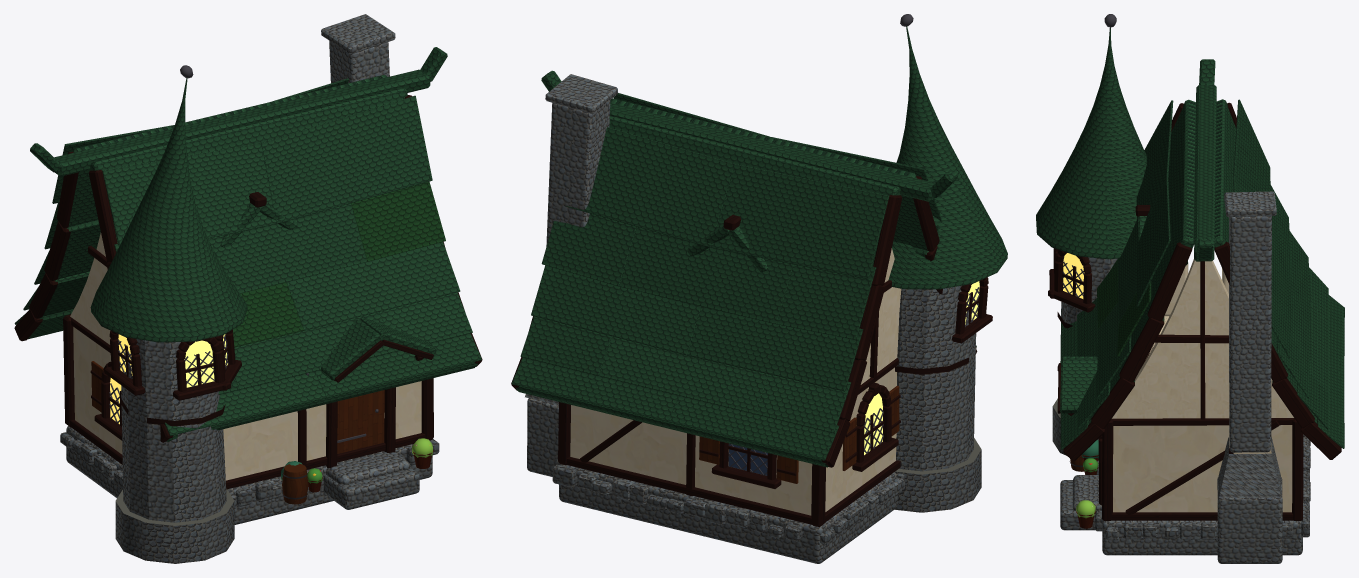
Rendered from azshara_house_2.gltf.
The picture shows the model from 3 angles, left to right: view 1: azimuth 30°, elevation 25°; view 2: azimuth 150°, elevation 25°; view 3: azimuth 270°, elevation 25°; orthographic projection. The views are drawn at different scales.
Parts seen in each view (by area): view 1: azshara_house_2_roof_LOD0, azshara_house_2_base_LOD0, azshara_house_2_trim_LOD0, azshara_house_2_wall_LOD0, azshara_house_2_door_LOD0, azshara_house_2_glow_FFB65A_LOD0, azshara_house_2_metal_LOD0, azshara_house_2_flora_LOD0; view 2: azshara_house_2_roof_LOD0, azshara_house_2_base_LOD0, azshara_house_2_trim_LOD0, azshara_house_2_wall_LOD0, azshara_house_2_door_LOD0, azshara_house_2_metal_LOD0, azshara_house_2_glow_FFB65A_LOD0; view 3: azshara_house_2_roof_LOD0, azshara_house_2_base_LOD0, azshara_house_2_wall_LOD0, azshara_house_2_trim_LOD0, azshara_house_2_flora_LOD0, azshara_house_2_glow_FFB65A_LOD0, azshara_house_2_door_LOD0, azshara_house_2_metal_LOD0.
Boxes of the visible parts, x1,y1,x2,y2 form: azshara_house_2_roof_LOD0: (14, 47, 481, 441); azshara_house_2_base_LOD0: (60, 14, 439, 563); azshara_house_2_trim_LOD0: (14, 95, 482, 489); azshara_house_2_wall_LOD0: (70, 232, 421, 480); azshara_house_2_door_LOD0: (91, 361, 433, 504); azshara_house_2_glow_FFB65A_LOD0: (110, 334, 227, 424); azshara_house_2_metal_LOD0: (109, 65, 378, 499); azshara_house_2_flora_LOD0: (281, 438, 432, 483); azshara_house_2_roof_LOD0: (511, 26, 1007, 467); azshara_house_2_base_LOD0: (525, 74, 981, 563); azshara_house_2_trim_LOD0: (511, 176, 992, 527); azshara_house_2_wall_LOD0: (570, 248, 901, 515); azshara_house_2_door_LOD0: (699, 385, 899, 483); azshara_house_2_metal_LOD0: (728, 14, 979, 475); azshara_house_2_glow_FFB65A_LOD0: (864, 281, 979, 454); azshara_house_2_roof_LOD0: (1036, 27, 1344, 449); azshara_house_2_base_LOD0: (1052, 191, 1310, 563); azshara_house_2_wall_LOD0: (1112, 259, 1293, 512); azshara_house_2_trim_LOD0: (1048, 102, 1341, 520); azshara_house_2_flora_LOD0: (1076, 440, 1098, 518); azshara_house_2_glow_FFB65A_LOD0: (1063, 253, 1084, 298); azshara_house_2_door_LOD0: (1070, 455, 1098, 528); azshara_house_2_metal_LOD0: (1062, 14, 1116, 467).
Size of what is drawn, in the model's own units: 10.99 by 12 by 7.77.
10 materials, 5 textured.
